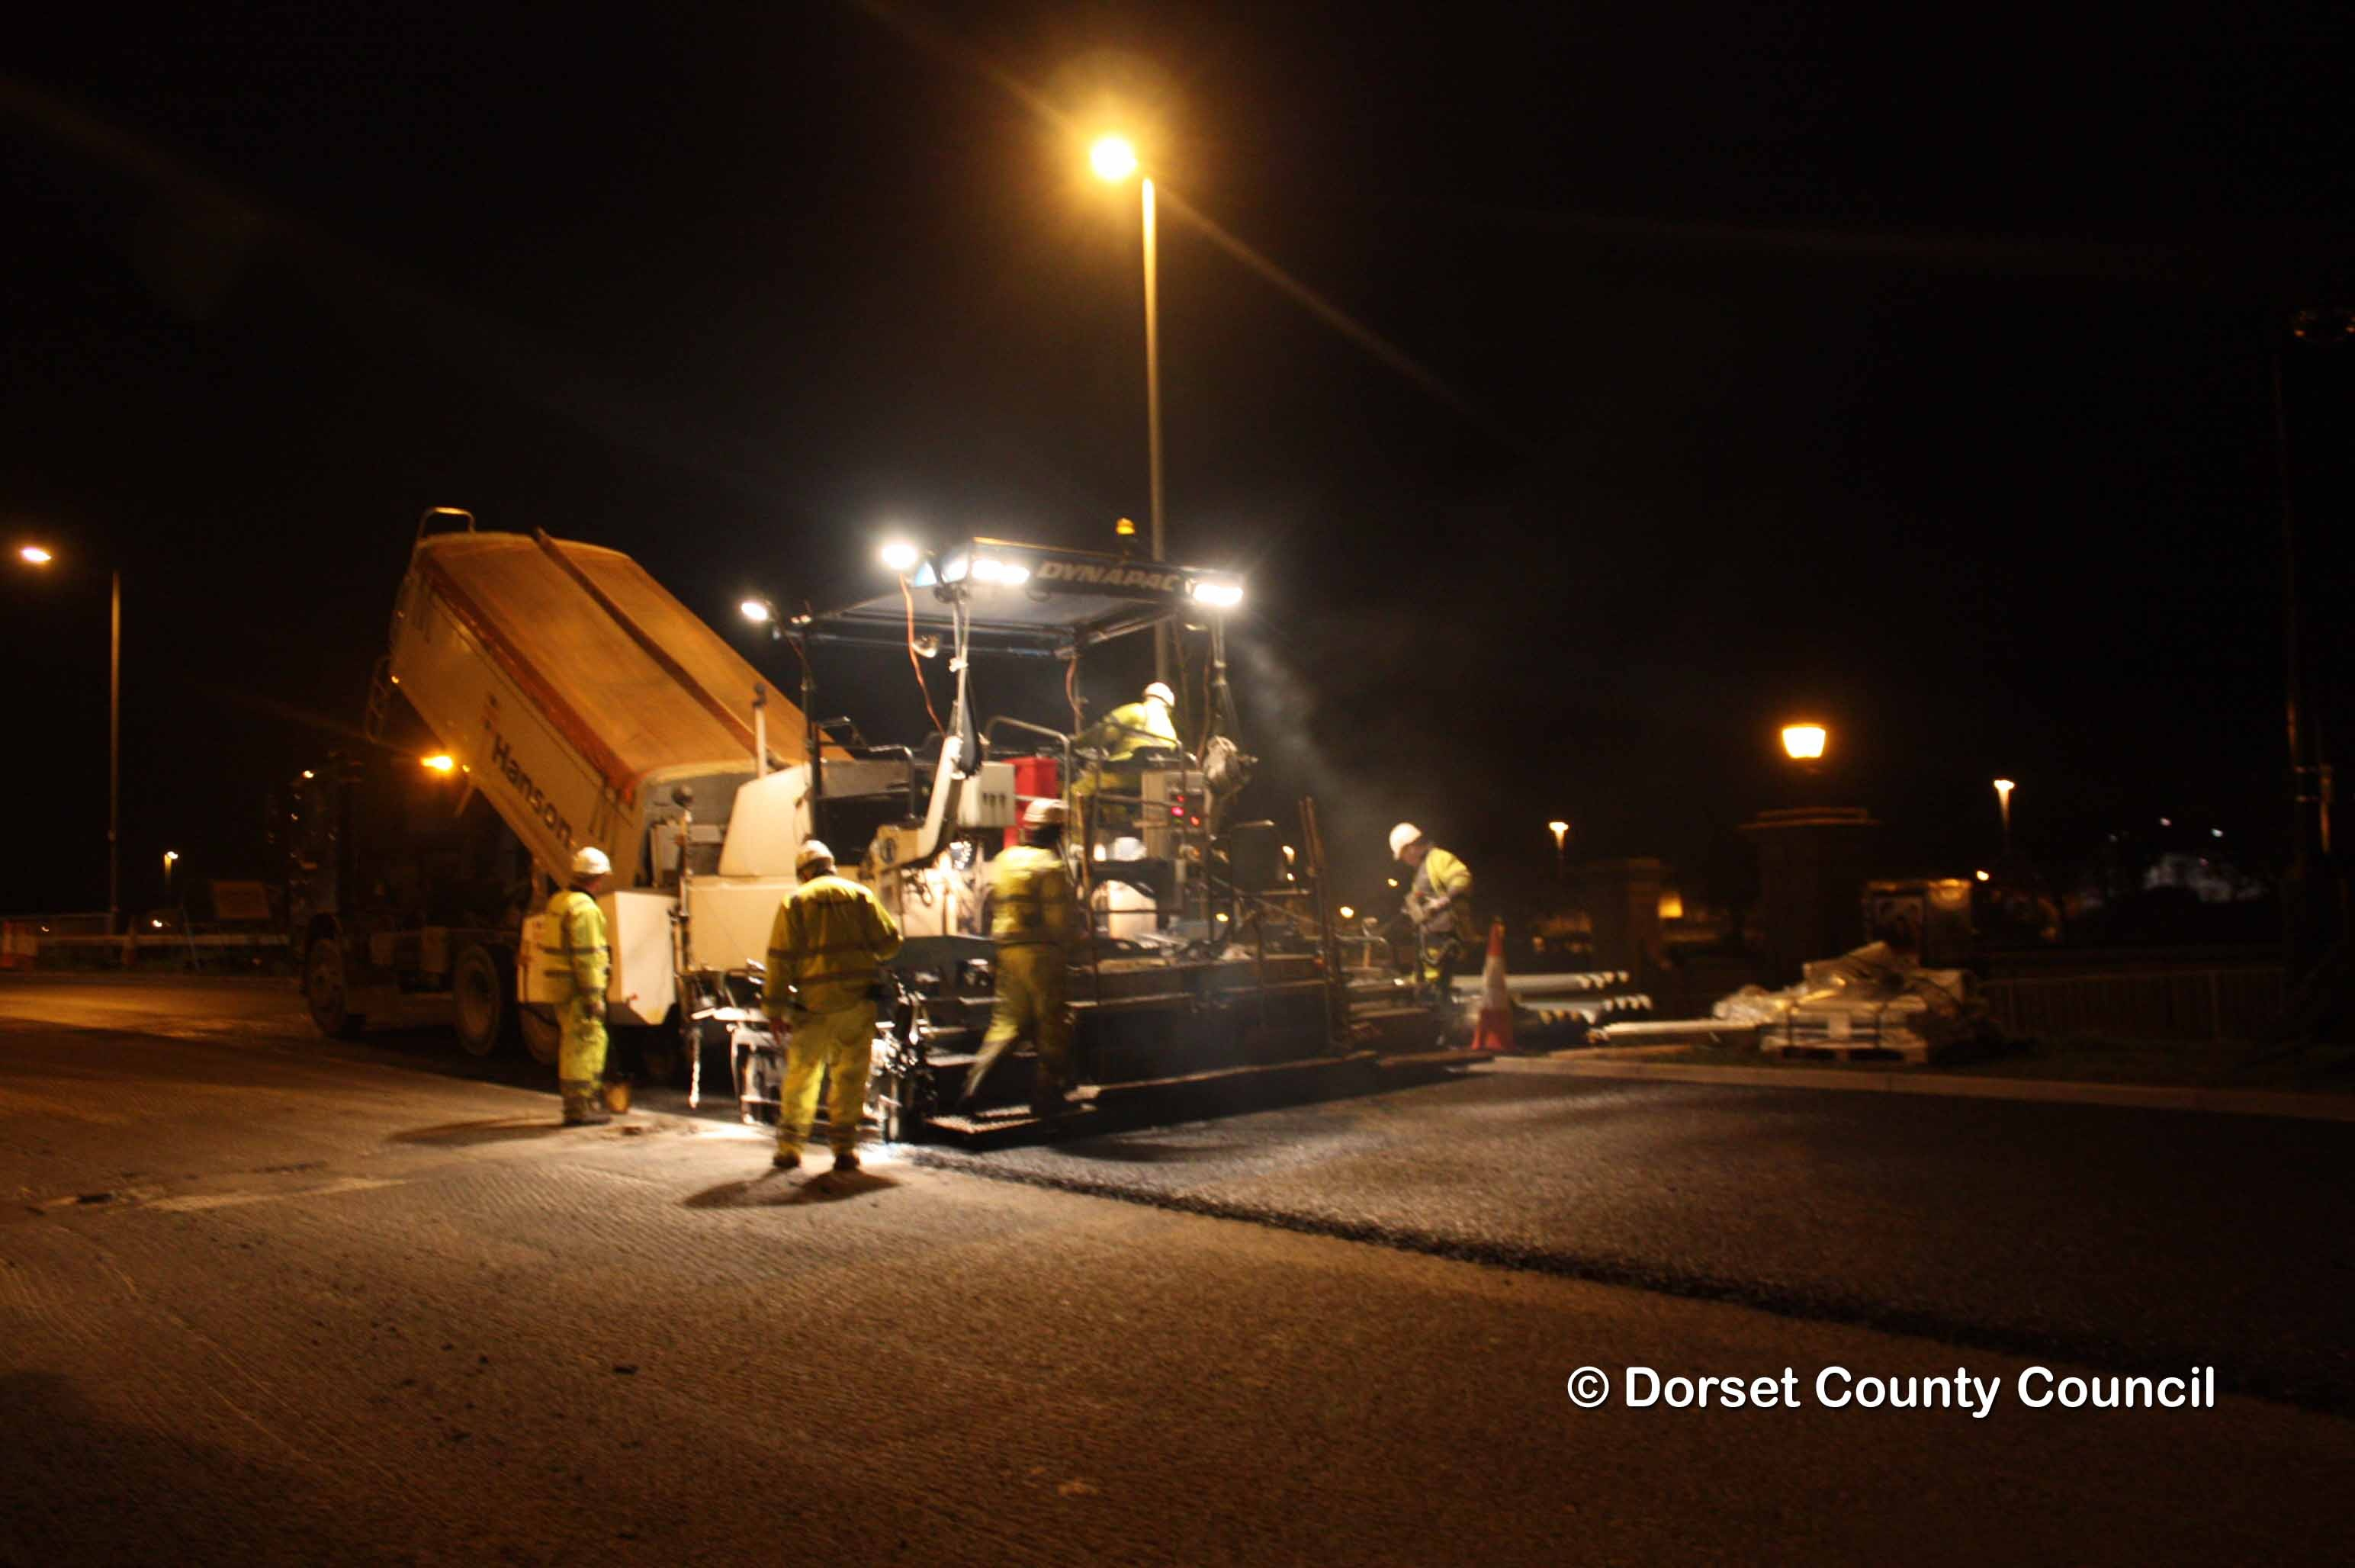white: (1020, 796, 1069, 847), (567, 843, 609, 894), (1387, 821, 1428, 868), (793, 838, 836, 880), (1143, 679, 1174, 712)
